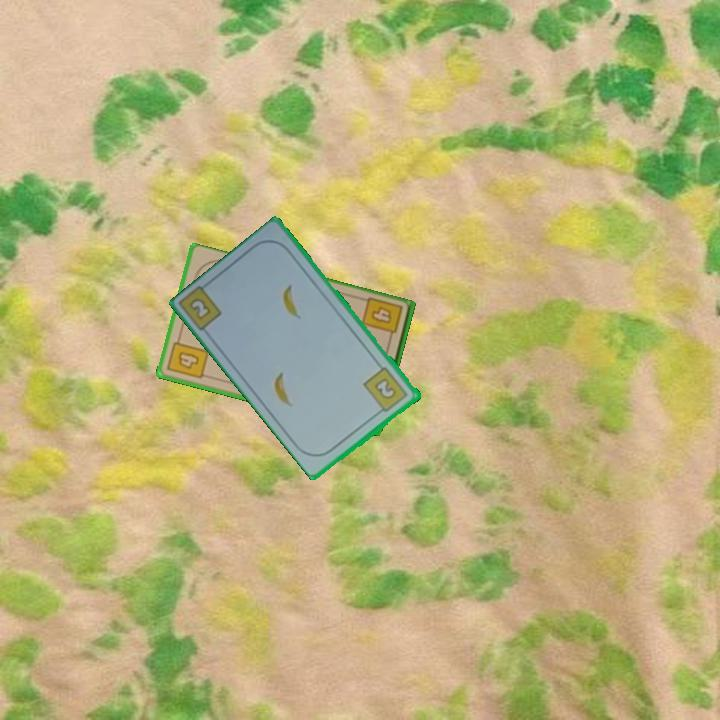2b: (360, 363, 411, 417), (185, 294, 214, 323)
4b: (358, 294, 406, 345), (164, 332, 212, 382)
